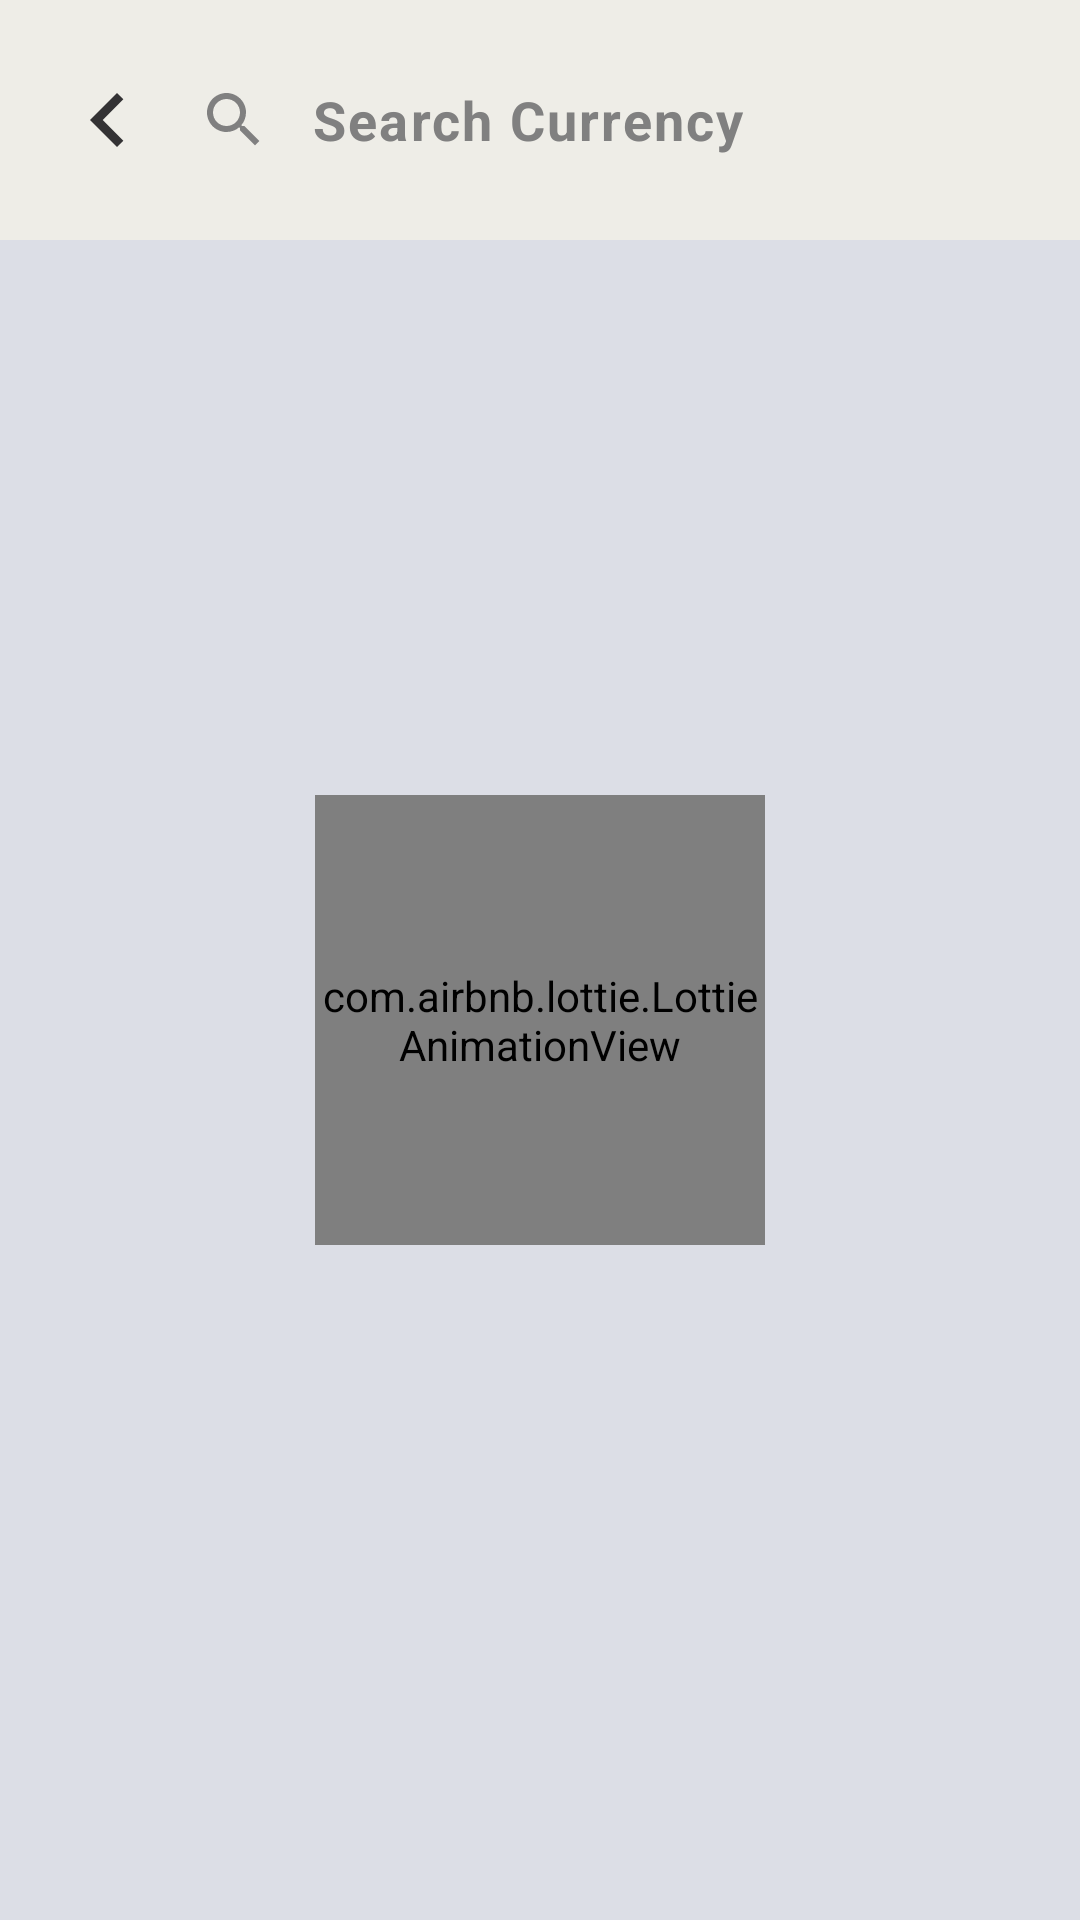

Named icons in this screenshot (1080px x 1920px) and their centers, point (x, y):
arrow left: point (106, 120)
